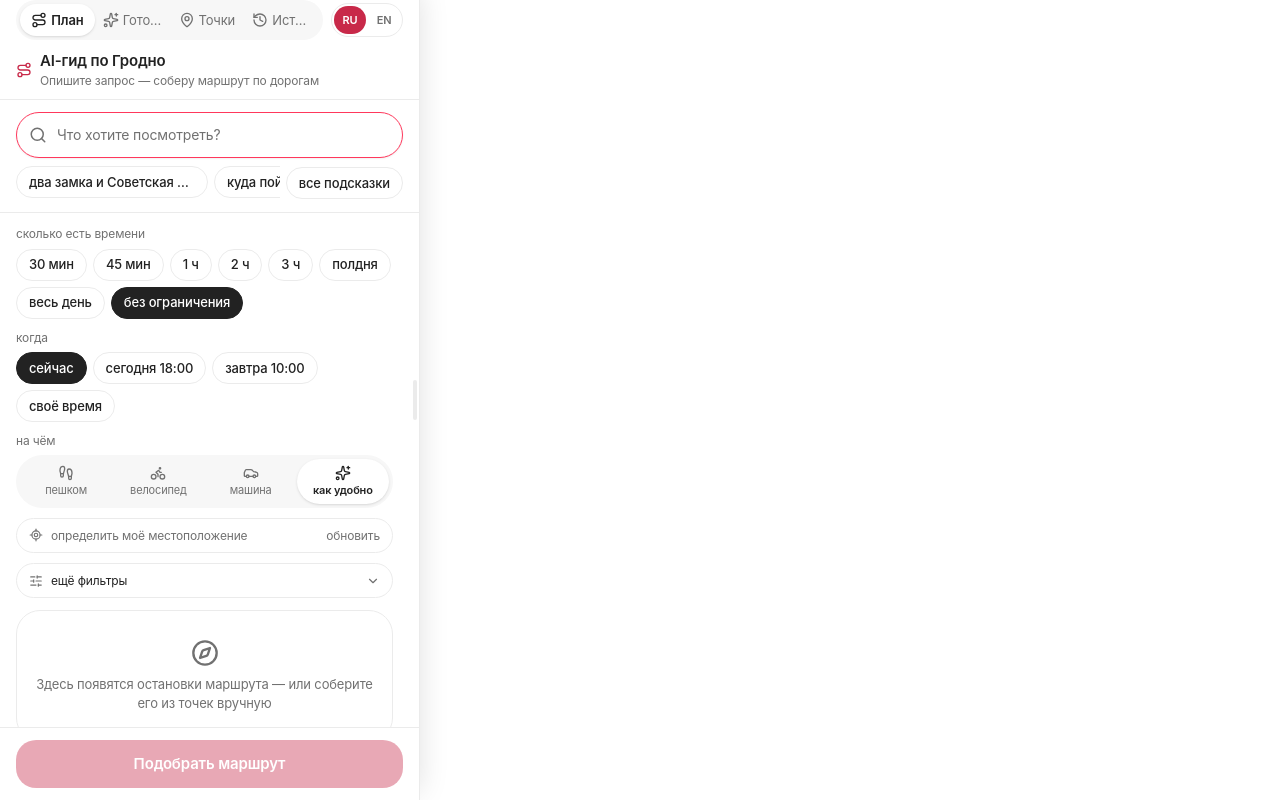
Test: Sidebar › leaves the field alone until a hint is picked
Click the button with test id "hints-all".
click(344, 183)  # box x1=286 y1=167 x2=403 y2=199
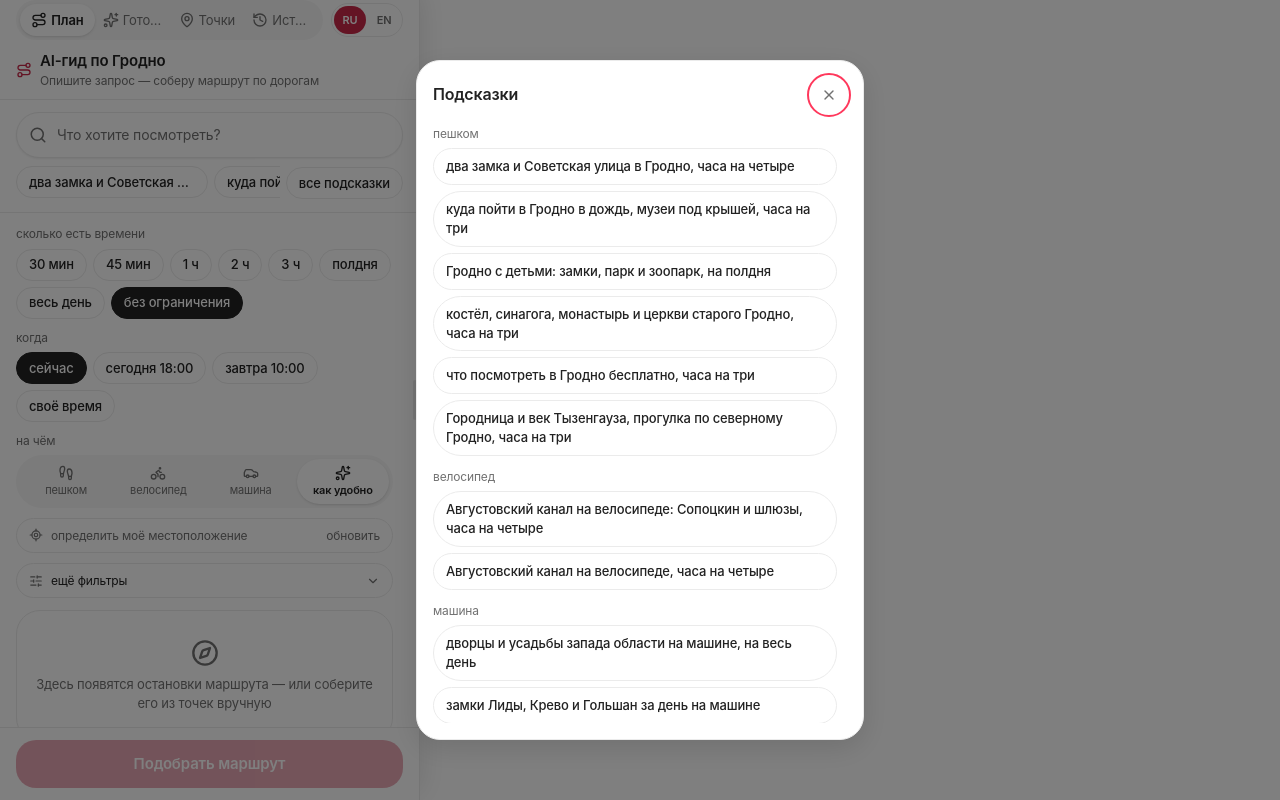
Press Escape
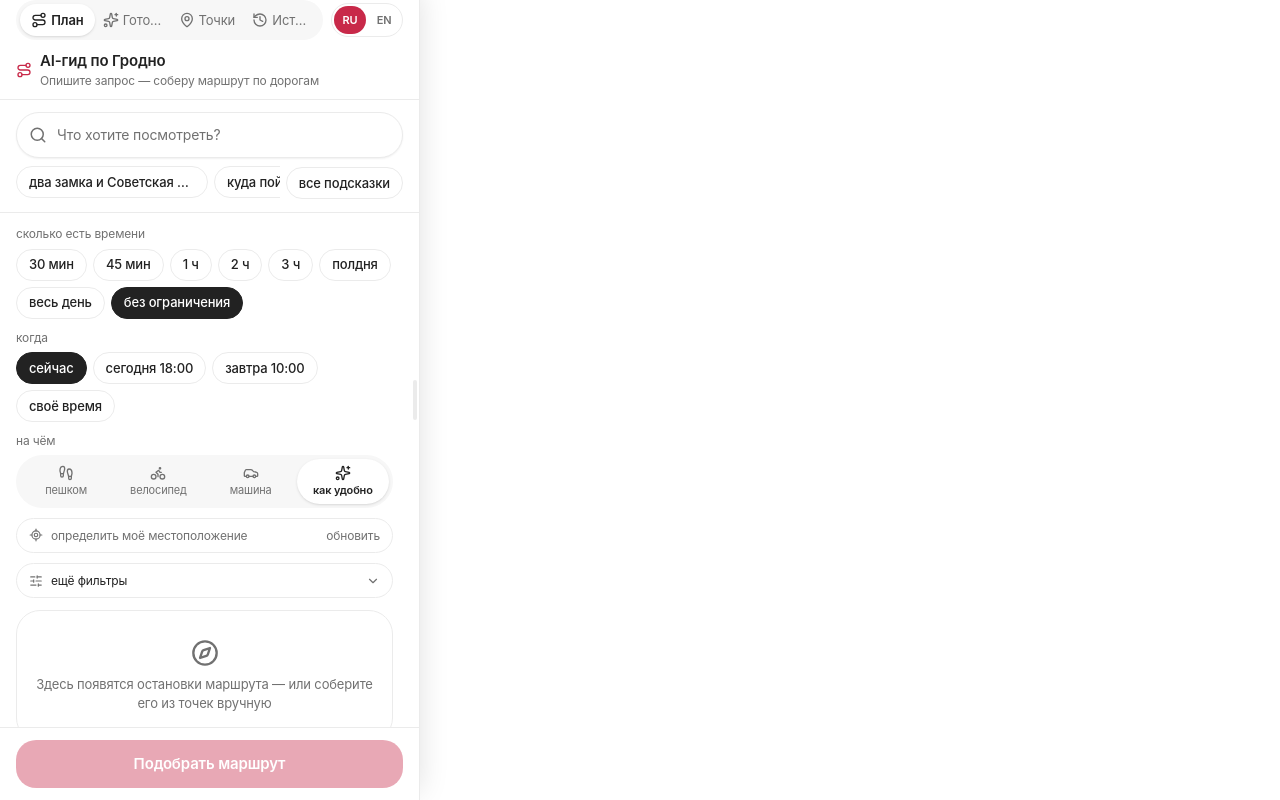
expect the text box labelled "Что хотите посмотреть" is empty: met, box x1=57 y1=123 x2=390 y2=147
expect the dialog with test id "hints-dialog" is gone: met
